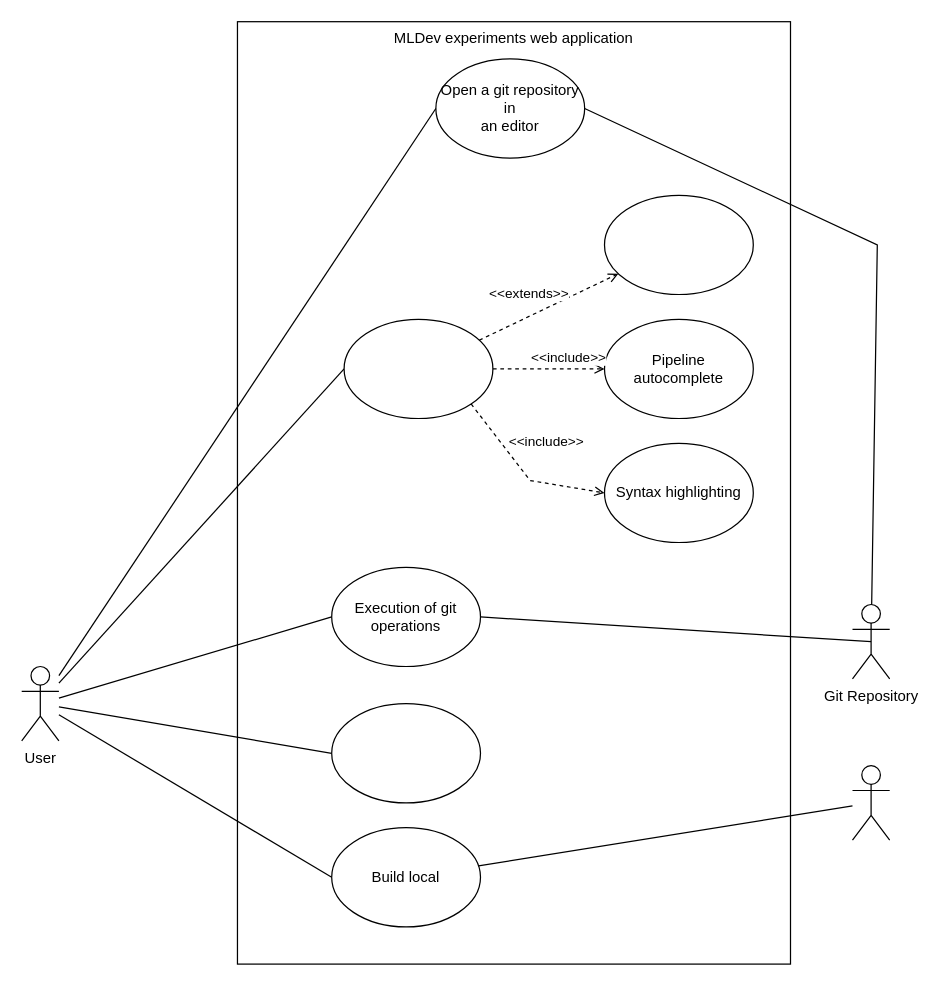
Image size: 940x986. Some labels were removed from this diagram. Each missing label, with the box of its shape:
CRUD experiment files: (343, 318, 493, 418)
CRUD files: (603, 194, 753, 294)
ML Dev: (851, 764, 890, 840)
Pipeline graph visualization: (330, 702, 480, 803)
